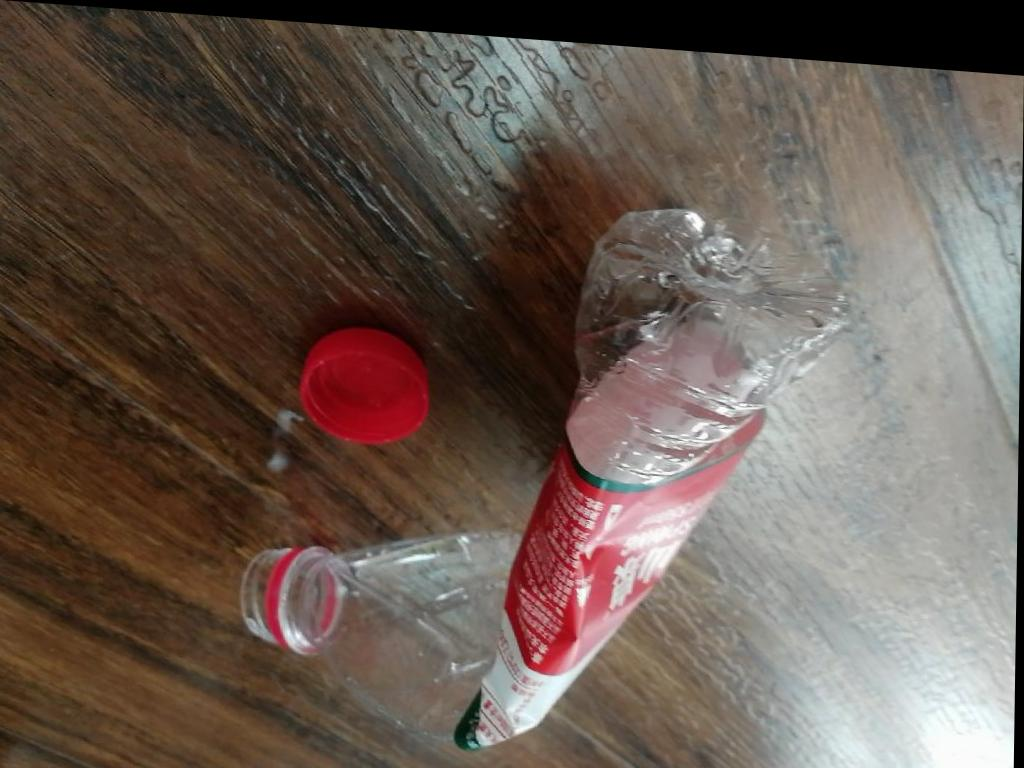plastic: (242, 209, 846, 750), (299, 327, 428, 443)
